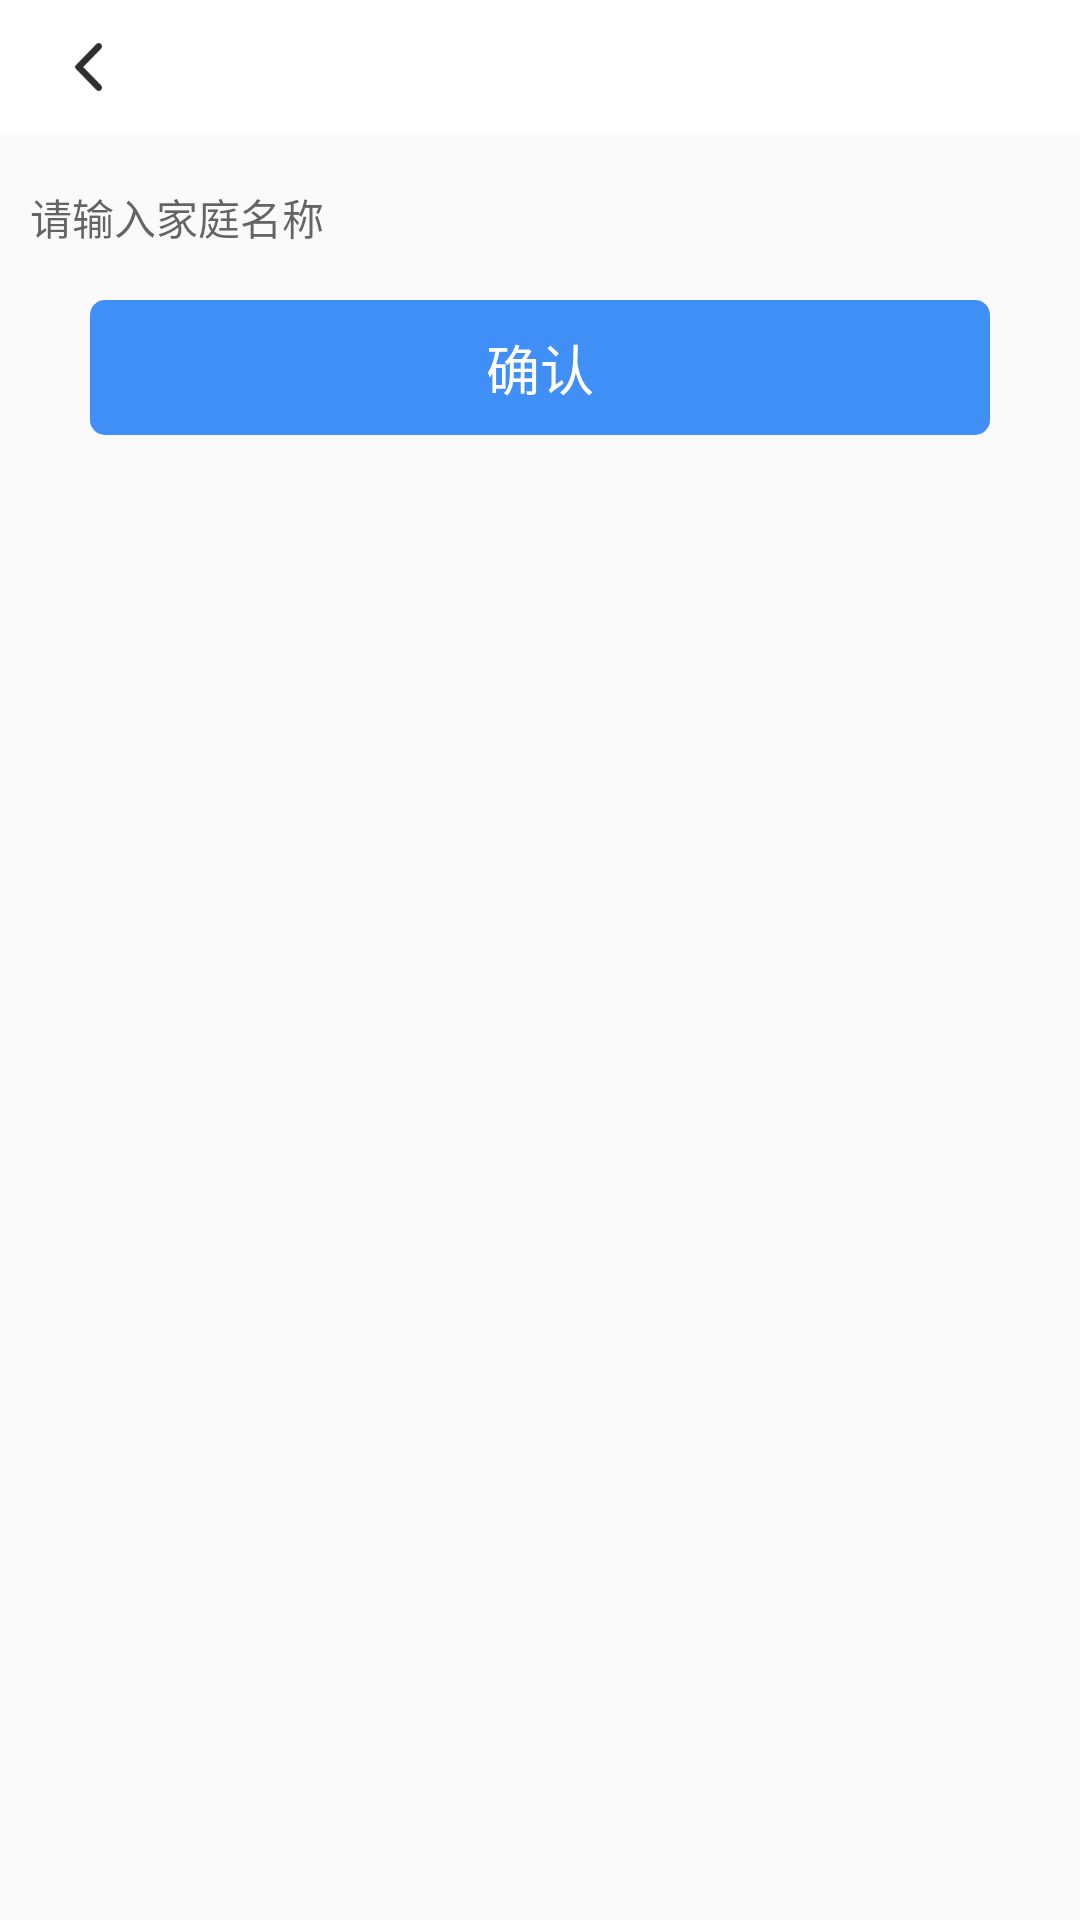

Named icons in this screenshot (1080w x 1920h) and their bounding boxes, (x1, y1, x2, y2):
back: (75, 43, 102, 91)
